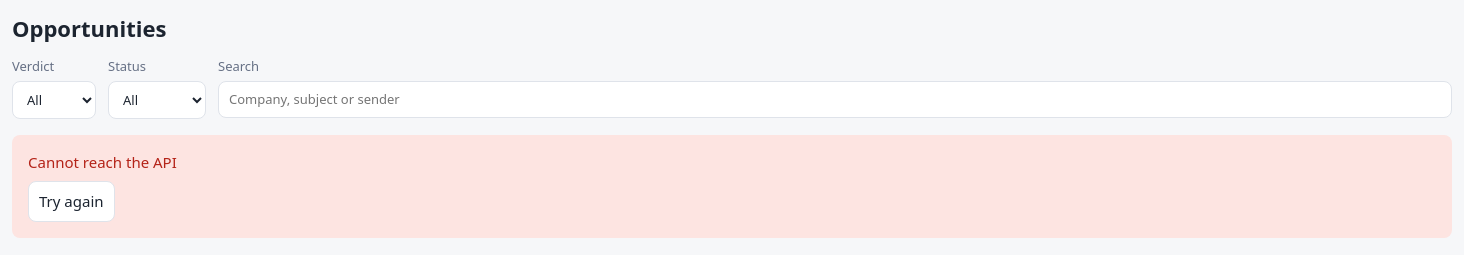
Scenario: OpportunitiesPage › shows an error with a retry button when the API is down
This screenshot has width=1464, height=255.
Check: the message shows "Cannot reach the API", box [28,152,177,172]
Step 1. Click the button "Try again" → coordinates (71, 201), box [28,181,114,222]
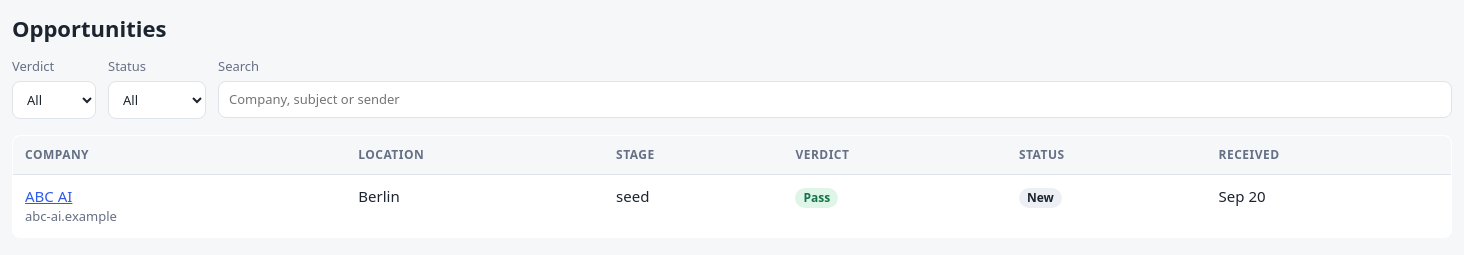
Check: the link "ABC AI" is shown, box [25,186,72,206]
